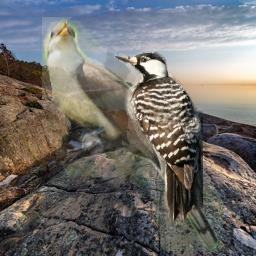Cuckoo: (42, 17, 224, 251)
Woodpecker: (114, 52, 203, 229)
